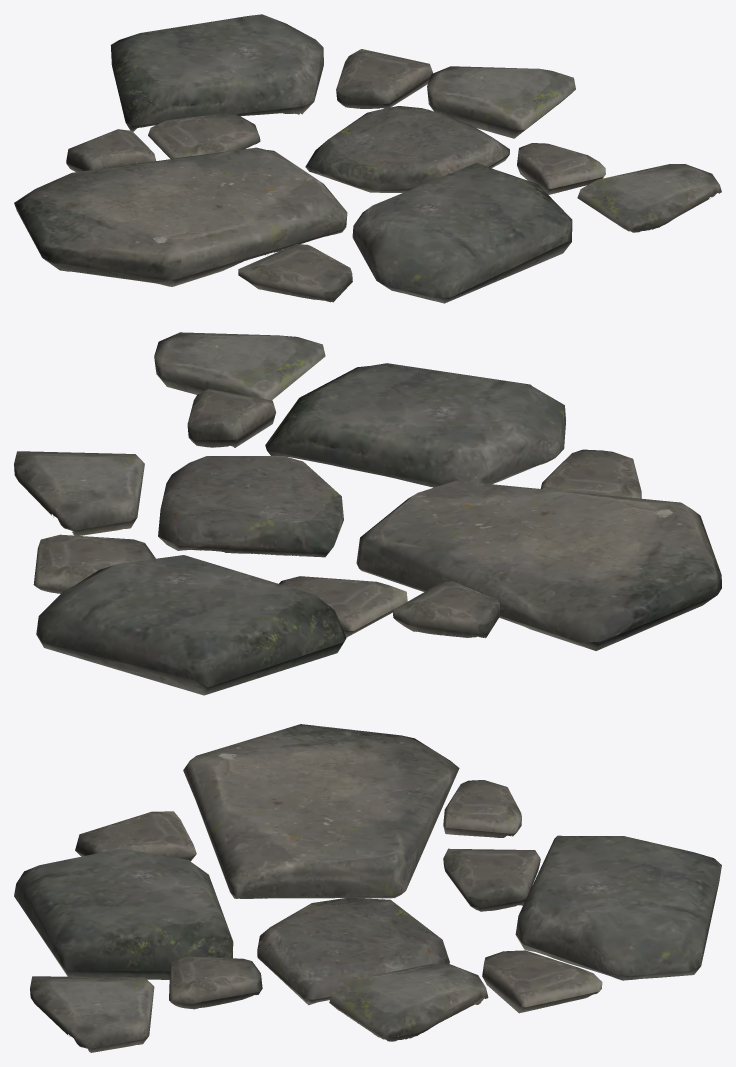
3 renders of one model, top to bottom at view 1: azimuth 30°, elevation 25°; view 2: azimuth 150°, elevation 25°; view 3: azimuth 270°, elevation 25°, orthographic. The views are drawn at different scales.
Visible parts, largest first — view 1: SM_DeathTemple_Cobble_Road_01v2_LOD0; view 2: SM_DeathTemple_Cobble_Road_01v2_LOD0; view 3: SM_DeathTemple_Cobble_Road_01v2_LOD0.
Boxes of the visible parts, x1,y1,x2,y2 form: SM_DeathTemple_Cobble_Road_01v2_LOD0: [14, 14, 721, 303]; SM_DeathTemple_Cobble_Road_01v2_LOD0: [14, 332, 721, 695]; SM_DeathTemple_Cobble_Road_01v2_LOD0: [14, 724, 721, 1052].
Size of the model in its own units: 1.52 by 0.121 by 1.46.
1 material, 1 textured.
